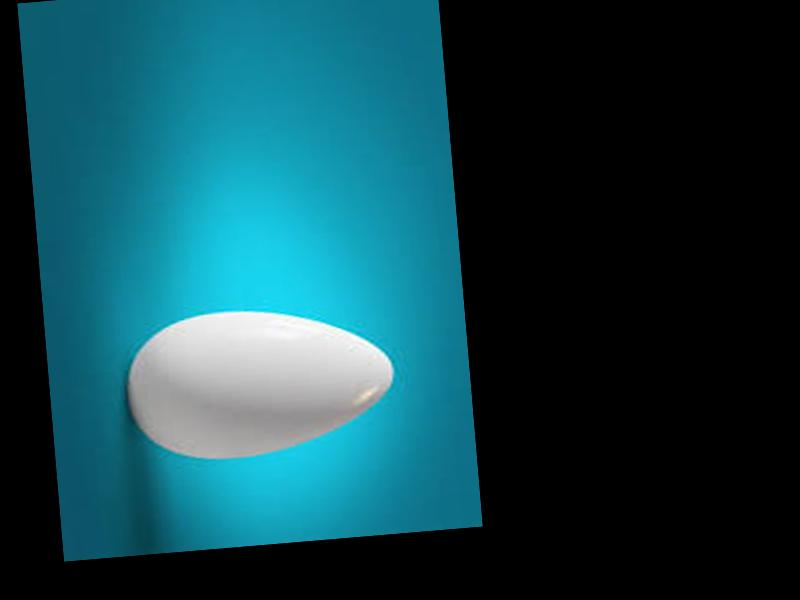Eggs: (121, 298, 397, 467)
